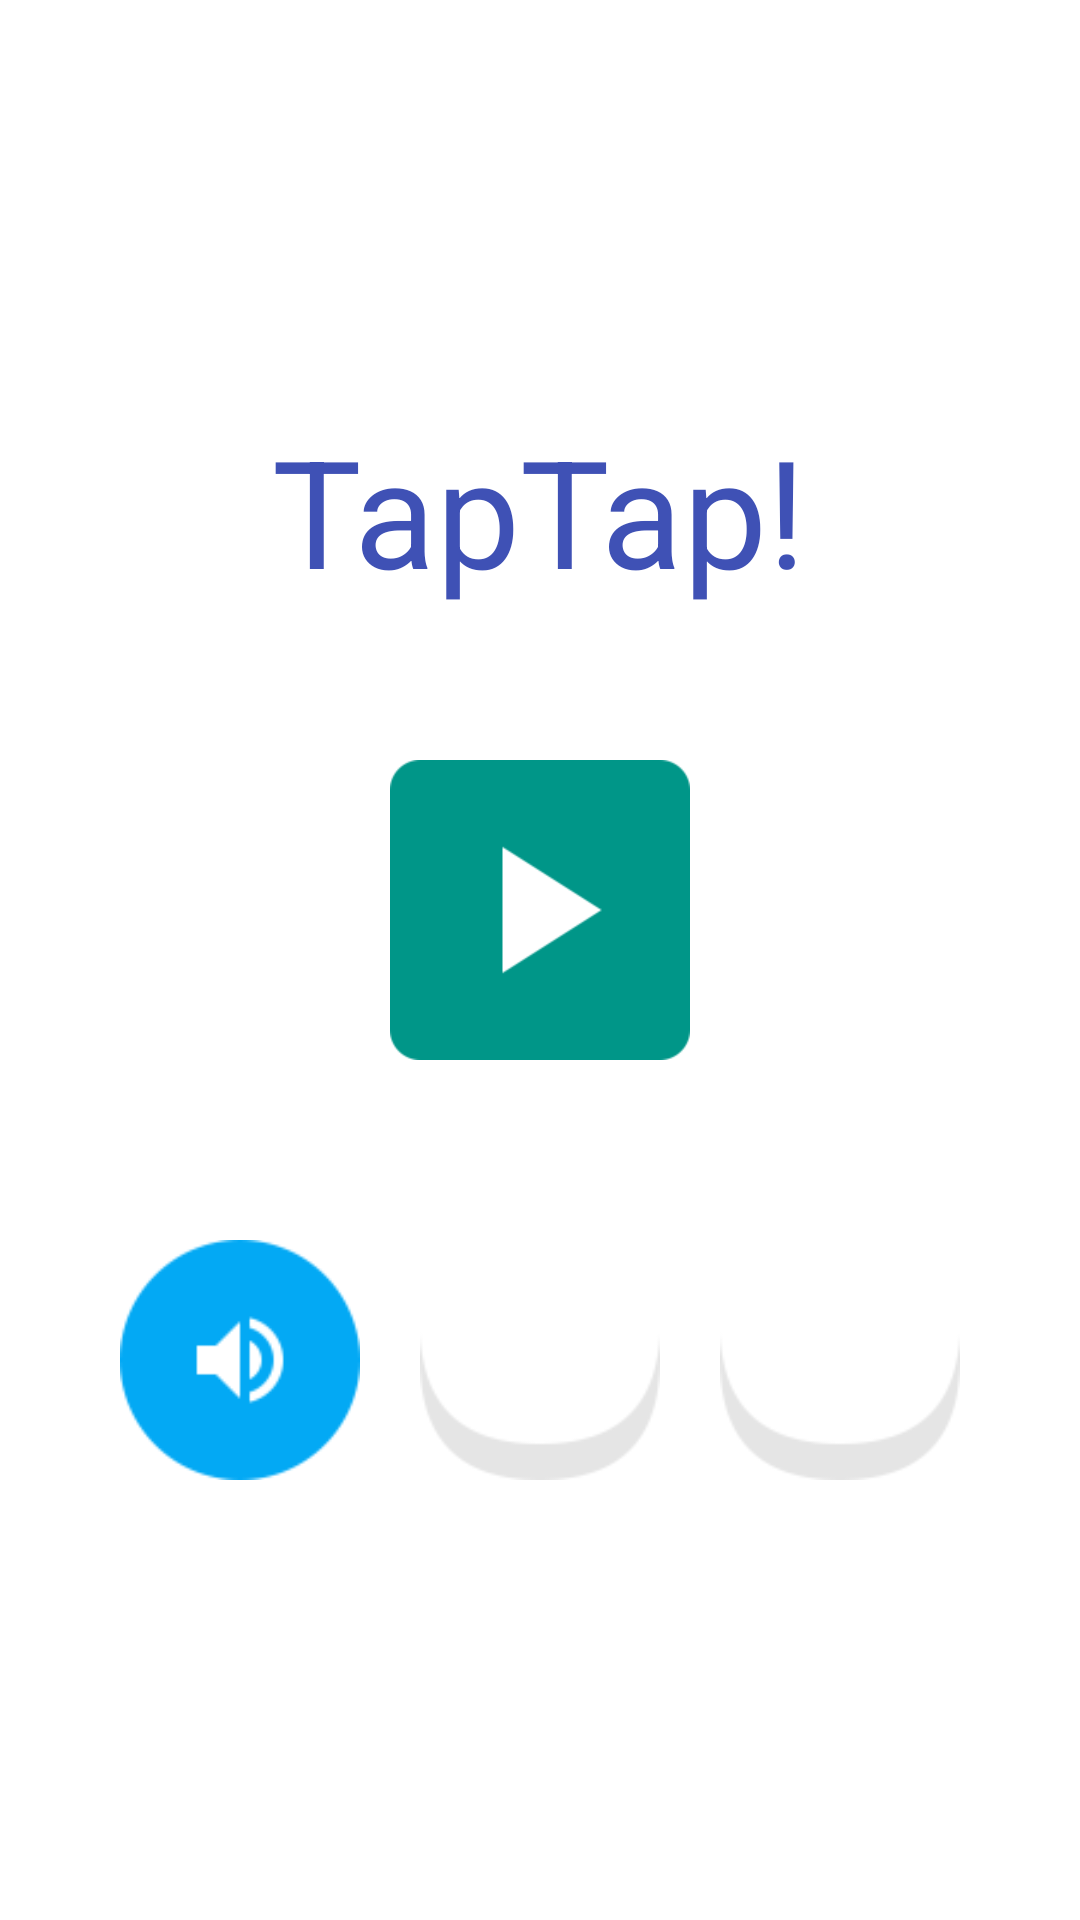

Named icons in this screenshot (1080x1920) and their bounding boxes, (left=x1, top=y1, right=x2, bottom=y2):
volume on: (left=120, top=1240, right=360, bottom=1480)
